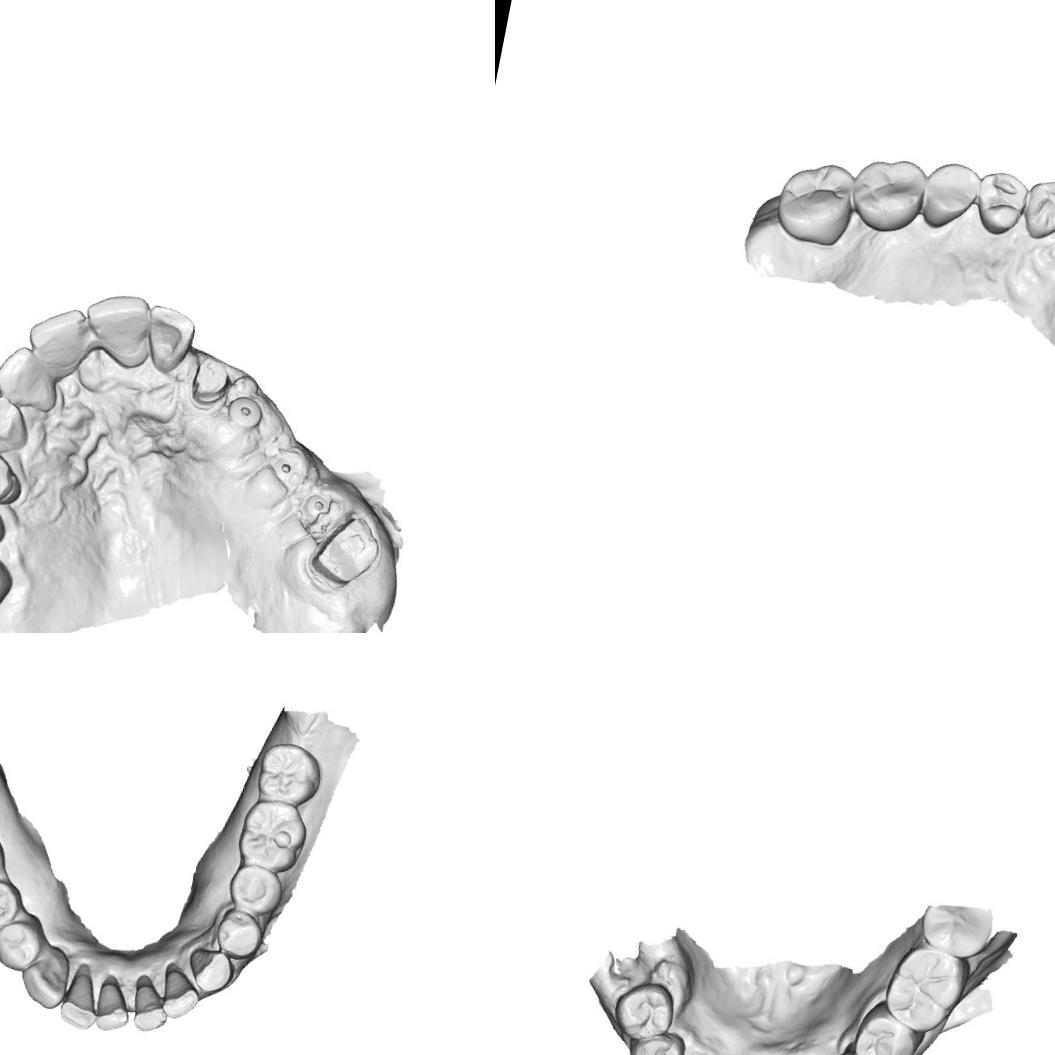canine: (14, 940, 75, 1012), (182, 943, 236, 998), (1018, 173, 1055, 247), (0, 391, 38, 463)
crown: (302, 503, 390, 595), (184, 356, 234, 410)
implant: (259, 438, 313, 496), (224, 383, 268, 434), (300, 486, 337, 526)
incisor: (78, 284, 156, 374), (20, 302, 92, 382), (0, 340, 61, 419), (140, 303, 199, 371), (154, 961, 205, 1025), (55, 970, 102, 1032), (125, 979, 173, 1036), (90, 976, 135, 1036)
molar: (767, 152, 861, 251), (880, 940, 967, 1036), (844, 150, 931, 239), (231, 792, 313, 878), (250, 737, 327, 811), (854, 1006, 917, 1055)
premolar: (912, 154, 982, 238), (968, 164, 1031, 241), (222, 859, 286, 920), (613, 982, 671, 1043), (209, 906, 270, 963), (0, 914, 48, 976), (0, 872, 27, 939), (627, 1031, 681, 1055), (0, 444, 15, 505)
